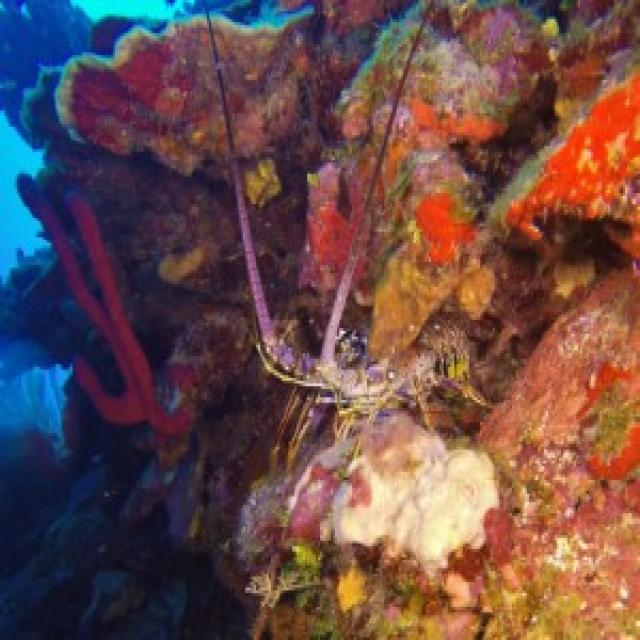lobsters: (192, 254, 558, 531)
